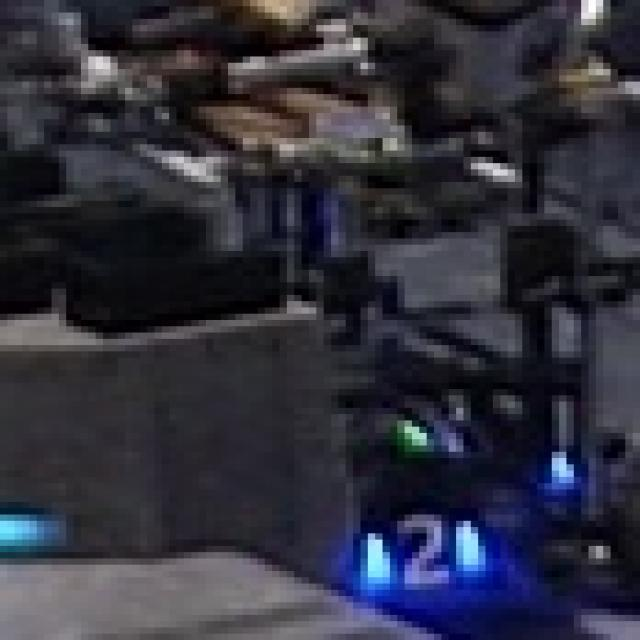B2: (353, 508, 478, 590)
